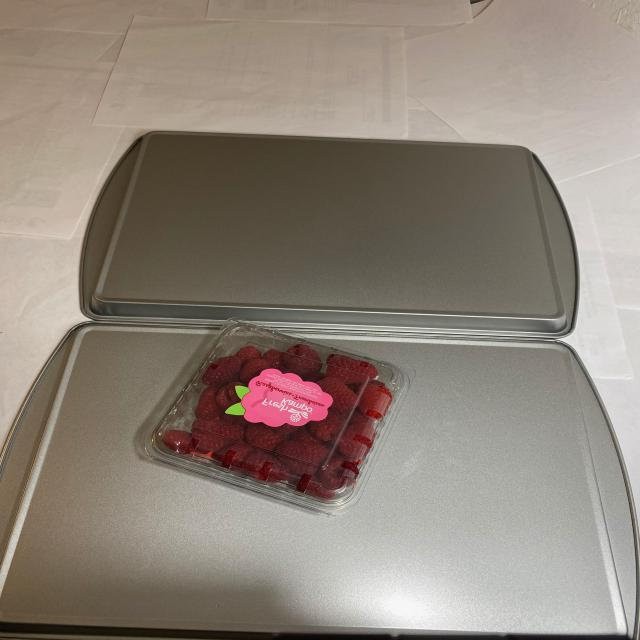raspberries: (157, 346, 391, 486)
